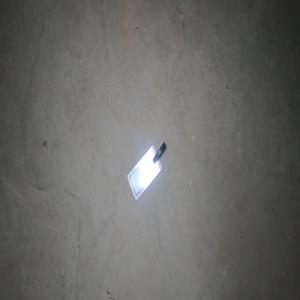LuggageTag: (126, 140, 167, 201)
